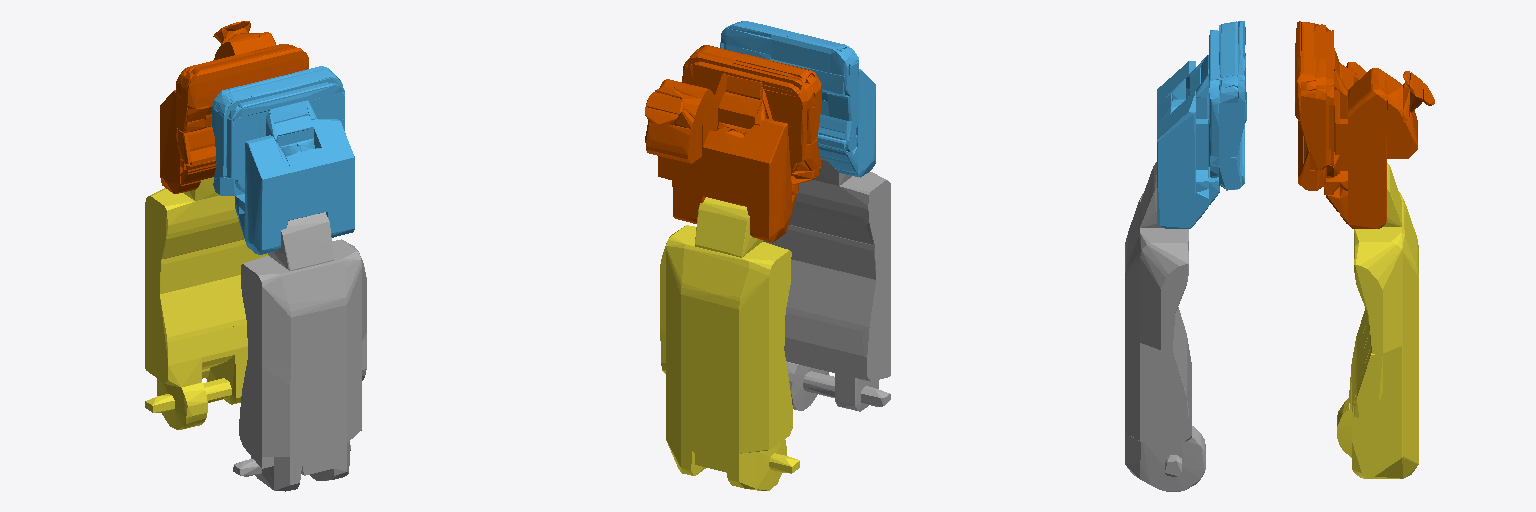
URDF robot description (hsrb):
<?xml version="1.0" ?>
<!-- =================================================================================== -->
<!-- |    This document was autogenerated by xacro from /tmp/buildd/ros-kinetic-hsrb-description-0.18.1/robots/hsrb4s.urdf.xacro | -->
<!-- |    EDITING THIS FILE BY HAND IS NOT RECOMMENDED                                 | -->
<!-- =================================================================================== -->
<robot name="hsrb" xmlns:controller="http://playerstage.sourceforge.net/gazebo/xmlschema/#controller" xmlns:interface="http://playerstage.sourceforge.net/gazebo/xmlschema/#interface" xmlns:sensor="http://playerstage.sourceforge.net/gazebo/xmlschema/#sensor" xmlns:xacro="http://ros.org/wiki/xacro">
  <material name="body_main">
    <color rgba="1.0 0.0 0.0 1.0"/>
  </material>
  <material name="body_sub">
    <color rgba="0.33 0.33 0.33 1.0"/>
  </material>
  <material name="wheel">
    <color rgba="0.2 0.2 0.2 1.0"/>
  </material>
  <material name="black">
    <color rgba="0.1 0.1 0.1 1.0"/>
  </material>
  <material name="tablet">
    <color rgba="0.1 0.1 0.2 1.0"/>
  </material>

  <link name="wrist_roll_link">
  </link>
  <joint name="hand_palm_joint" type="fixed">
    <origin rpy="0.0 0.0 3.14159265359" xyz="0.012 0.0 0.1405"/>
    <parent link="wrist_roll_link"/>
    <child link="hand_palm_link"/>
  </joint>
  <link name="hand_palm_link">
    <inertial>
      <mass value="0.15"/>
      <inertia ixx="0.015" ixy="0.0" ixz="0.0" iyy="0.015" iyz="0.0" izz="0.015"/>
    </inertial>
    <visual>
      <geometry>
        <mesh filename="package://hsrb_description/meshes/hand_v0/palm_light.dae"/>
      </geometry>
    </visual>
    <collision>
      <geometry>
        <mesh filename="package://hsrb_description/meshes/hand_v0/palm.stl"/>
      </geometry>
    </collision>
  </link>
  <joint name="hand_l_proximal_joint" type="revolute">
    <origin rpy="0.0 0.0 0.0" xyz="-0.01675 -0.0245 -0.0175"/>
    <axis xyz="1.0 0.0 0.0"/>
    <limit effort="100.0" lower="-0.798" upper="1.24" velocity="1.0"/>
    <parent link="hand_palm_link"/>
    <child link="hand_l_proximal_link"/>
    <dynamics damping="0.0001" friction="0.0001"/>
  </joint>
  <link name="hand_l_proximal_link">
    <inertial>
      <mass value="0.01"/>
      <inertia ixx="0.0015" ixy="0.0" ixz="0.0" iyy="0.0015" iyz="0.0" izz="0.0015"/>
    </inertial>
  </link>
  <joint name="hand_l_spring_proximal_joint" type="fixed">
    <axis xyz="1.0 0.0 0.0"/>
    <limit effort="10.0" lower="0.0" upper="0.698" velocity="1.0"/>
    <parent link="hand_l_proximal_link"/>
    <child link="hand_l_spring_proximal_link"/>
    <dynamics damping="0.0001" friction="0.0001"/>
  </joint>

  <link name="hand_l_spring_proximal_link">
    <inertial>    
      <mass value="0.043589"/> 
      <origin xyz="0.021418 0.00248 0.022688"/>
      <inertia ixx="0.000026033886" ixy="-0.000000144078" ixz="-0.00000198241" iyy="0.000028824811" iyz="-0.000001268421" izz="0.000005135919"/>
    </inertial>
    <visual>
      <geometry>
        <mesh filename="package://hsrb_description/meshes/hand_v0/l_proximal_vhacd.obj"/>
      </geometry>
    </visual>
    <collision>
      <geometry>
        <mesh filename="package://hsrb_description/meshes/hand_v0/l_proximal_vhacd.obj"/>
      </geometry>
    </collision>
  </link>
  <joint name="hand_l_mimic_distal_joint" type="fixed">
    <origin xyz="0.0 0.0 0.07"/>
    <axis xyz="1.0 0.0 0.0"/>
    <limit effort="1000.0" lower="-0.698" upper="-0.0" velocity="1.0"/>
    <parent link="hand_l_spring_proximal_link"/>
    <child link="hand_l_mimic_distal_link"/>
    <dynamics damping="0.0001" friction="0.0001"/>
  </joint>
  <link name="hand_l_mimic_distal_link">
    <inertial>
      <mass value="0.01"/>
      <inertia ixx="0.0015" ixy="0.0" ixz="0.0" iyy="0.0015" iyz="0.0" izz="0.0015"/>
    </inertial>
  </link>

  <joint name="hand_l_distal_joint" type="revolute"> <!-- this is the joint in the finger tip -->
    <axis xyz="1.0 0.0 0.0"/>
    <limit effort="1000.0" lower="-1.24" upper="0.798" velocity="1.0"/>
    <parent link="hand_l_mimic_distal_link"/>
    <child link="hand_l_distal_link"/>
    <dynamics damping="0.0001" friction="0.0001"/>
  </joint>
  <link name="hand_l_distal_link">
    <inertial>
      <mass value="0.027731"/>
      <origin xyz="0.011116 0.005679 0.017532"/>
      <inertia ixx="0.000004451952" ixy="-0.000000617574" ixz="0.000000503765" iyy="0.000000503765" iyz="-0.000000435048" izz="0.000004456764"/>
    </inertial>
    <visual>
      <geometry>
        <mesh filename="package://hsrb_description/meshes/hand_v0/l_distal_vhacd.obj"/>
      </geometry>
    </visual>
    <collision>
      <geometry>
        <mesh filename="package://hsrb_description/meshes/hand_v0/l_distal_vhacd.obj"/>
      </geometry>
    </collision>
  </link>


  <joint name="hand_r_proximal_joint" type="revolute">
    <origin rpy="0.0 0.0 0.0" xyz="-0.01675 0.0245 -0.0175"/>
    <axis xyz="-1.0 0.0 0.0"/>
    <limit effort="100.0" lower="-0.798" upper="1.24" velocity="1.0"/>
    <parent link="hand_palm_link"/>
    <child link="hand_r_proximal_link"/>
    <dynamics damping="0.0001" friction="0.0001"/>
  </joint>
  <link name="hand_r_proximal_link">
    <inertial>
      <mass value="0.01"/>
      <inertia ixx="0.0015" ixy="0.0" ixz="0.0" iyy="0.0015" iyz="0.0" izz="0.0015"/>
    </inertial>
  </link>
  <joint name="hand_r_spring_proximal_joint" type="fixed">
    <axis xyz="-1.0 0.0 0.0"/>
    <limit effort="10.0" lower="0.0" upper="0.698" velocity="1.0"/>
    <parent link="hand_r_proximal_link"/>
    <child link="hand_r_spring_proximal_link"/>
    <dynamics damping="0.0001" friction="0.0001"/> 
  </joint>
  <link name="hand_r_spring_proximal_link">
    <inertial>
      <mass value="0.043956"/>
      <origin xyz="0.013203 0.002096 0.023311"/>
      <inertia ixx="0.00002623664" ixy="0.00000001631" ixz="0.000001281845" iyy="0.000028838232" iyz="-0.000001621709" izz="0.000004957151"/>
    </inertial>
    <visual>
      <geometry>
        <mesh filename="package://hsrb_description/meshes/hand_v0/r_proximal_vhacd.obj"/>
      </geometry>
    </visual>
    <collision>
      <geometry>
        <mesh filename="package://hsrb_description/meshes/hand_v0/r_proximal_vhacd.obj"/>
      </geometry>
    </collision>
  </link>
  <joint name="hand_r_mimic_distal_joint" type="fixed">
    <origin xyz="0.0 0.0 0.07"/>
    <axis xyz="-1.0 0.0 0.0"/>
    <limit effort="1000.0" lower="-0.698" upper="-0.0" velocity="1.0"/>
    <parent link="hand_r_spring_proximal_link"/>
    <child link="hand_r_mimic_distal_link"/>
    <dynamics damping="0.0001" friction="0.0001"/>
  </joint>
  <link name="hand_r_mimic_distal_link">
    <inertial>
      <mass value="0.01"/>
      <inertia ixx="0.0015" ixy="0.0" ixz="0.0" iyy="0.0015" iyz="0.0" izz="0.0015"/>
    </inertial>
  </link>
  <joint name="hand_r_distal_joint" type="revolute"> <!-- this is the joint in the finger tip, originally revolute -->
    <axis xyz="-1.0 0.0 0.0"/>
    <limit effort="1000.0" lower="-1.24" upper="0.798" velocity="1.0"/>
    <parent link="hand_r_mimic_distal_link"/>
    <child link="hand_r_distal_link"/>
    <dynamics damping="0.0001" friction="0.0001"/>
  </joint>
  <link name="hand_r_distal_link">
    <inertial>
      <mass value="0.020927"/>
      <origin xyz="0.014256 -0.008321 0.015591"/>
      <inertia ixx="0.00000307518" ixy="-0.00000004954" ixz="0.000000009481" iyy="0.000004074079" iyz="0.000000843648" izz="0.000002807795"/>
    </inertial>
    <visual>
      <geometry>
        <mesh filename="package://hsrb_description/meshes/hand_v0/r_distal_vhacd.obj"/>
      </geometry>
    </visual>
    <collision>
      <geometry>
        <mesh filename="package://hsrb_description/meshes/hand_v0/r_distal_vhacd.obj"/>
      </geometry>
    </collision>
  </link>


  <transmission name="hand_l_proximal_joint_transmission">
    <type>transmission_interface/SimpleTransmission</type>
    <joint name="hand_l_proximal_joint">
      <hardwareInterface>hardware_interface/EffortJointInterface</hardwareInterface>
    </joint>
    <actuator name="hand_l_proximal_joint_actuator">
      <hardwareInterface>hardware_interface/EffortJointInterface</hardwareInterface>
      <mechanicalReduction>1</mechanicalReduction>
    </actuator>
  </transmission>
  <transmission name="hand_r_proximal_joint_transmission">
    <type>transmission_interface/SimpleTransmission</type>
    <joint name="hand_r_proximal_joint">
      <hardwareInterface>hardware_interface/EffortJointInterface</hardwareInterface>
    </joint>
    <actuator name="hand_r_proximal_joint_actuator">
      <hardwareInterface>hardware_interface/EffortJointInterface</hardwareInterface>
      <mechanicalReduction>1</mechanicalReduction>
    </actuator>
  </transmission>

  <transmission name="hand_l_distal_joint_transmission">
    <type>transmission_interface/SimpleTransmission</type>
    <joint name="hand_l_distal_joint">
      <hardwareInterface>hardware_interface/EffortJointInterface</hardwareInterface>
    </joint>
    <actuator name="hand_l_distal_joint_actuator">
      <hardwareInterface>hardware_interface/EffortJointInterface</hardwareInterface>
      <mechanicalReduction>1</mechanicalReduction>
    </actuator>
  </transmission>
  <transmission name="hand_r_distal_joint_transmission">
    <type>transmission_interface/SimpleTransmission</type>
    <joint name="hand_r_distal_joint">
      <hardwareInterface>hardware_interface/EffortJointInterface</hardwareInterface>
    </joint>
    <actuator name="hand_r_distal_joint_actuator">
      <hardwareInterface>hardware_interface/EffortJointInterface</hardwareInterface>
      <mechanicalReduction>1</mechanicalReduction>
    </actuator>
  </transmission>


</robot>

--- Render facts (derived) ---
3 views of the same robot in one strip: view 1: azimuth 30°, elevation 25°; view 2: azimuth 150°, elevation 25°; view 3: azimuth 270°, elevation 25° (orthographic).
Model hsrb with 10 links and 9 joints (4 revolute, 5 fixed), rooted at wrist_roll_link, posed all joints at 0.
Visible links, largest first — view 1: hand_r_spring_proximal_link, hand_l_spring_proximal_link, hand_r_distal_link, hand_l_distal_link; view 2: hand_l_spring_proximal_link, hand_l_distal_link, hand_r_spring_proximal_link, hand_r_distal_link; view 3: hand_r_spring_proximal_link, hand_l_spring_proximal_link, hand_l_distal_link, hand_r_distal_link.
Boxes of the visible links, <box> form: hand_r_spring_proximal_link: <box>233,212,366,491</box>; hand_l_spring_proximal_link: <box>145,177,268,429</box>; hand_r_distal_link: <box>212,66,354,254</box>; hand_l_distal_link: <box>160,21,308,193</box>; hand_l_spring_proximal_link: <box>660,197,799,490</box>; hand_l_distal_link: <box>645,45,821,242</box>; hand_r_spring_proximal_link: <box>763,157,890,411</box>; hand_r_distal_link: <box>720,21,875,177</box>; hand_r_spring_proximal_link: <box>1125,162,1205,491</box>; hand_l_spring_proximal_link: <box>1337,163,1418,478</box>; hand_l_distal_link: <box>1295,21,1434,228</box>; hand_r_distal_link: <box>1157,21,1246,228</box>.
Bounding box of the posed robot: 0.0415 × 0.0773 × 0.1175 m (x, y, z).
4 mesh visuals loaded from 5 distinct referenced files (4 OBJ); not drawn: 1 (reference not matched to a file when rendering).